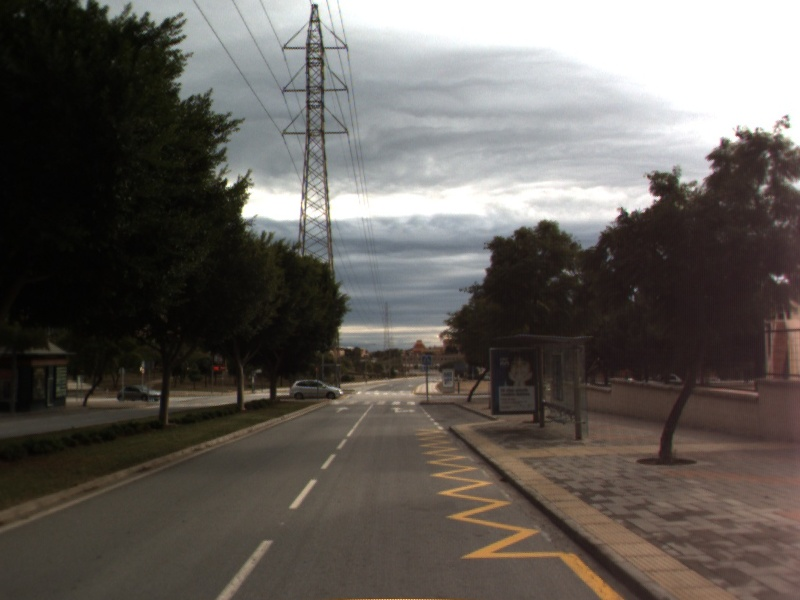STRAIGHT: (333, 404, 352, 415)
STRAIGHT_RIGHT: (389, 405, 418, 415)
